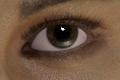eye: (47, 25, 77, 47)
